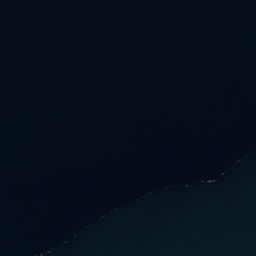Marine Debris: (135, 191, 153, 202), (200, 179, 217, 184), (36, 252, 45, 256), (46, 249, 52, 254), (62, 240, 68, 245), (100, 215, 105, 219), (236, 159, 241, 163), (221, 172, 225, 176), (114, 207, 118, 210), (73, 234, 76, 237), (110, 210, 113, 212)
